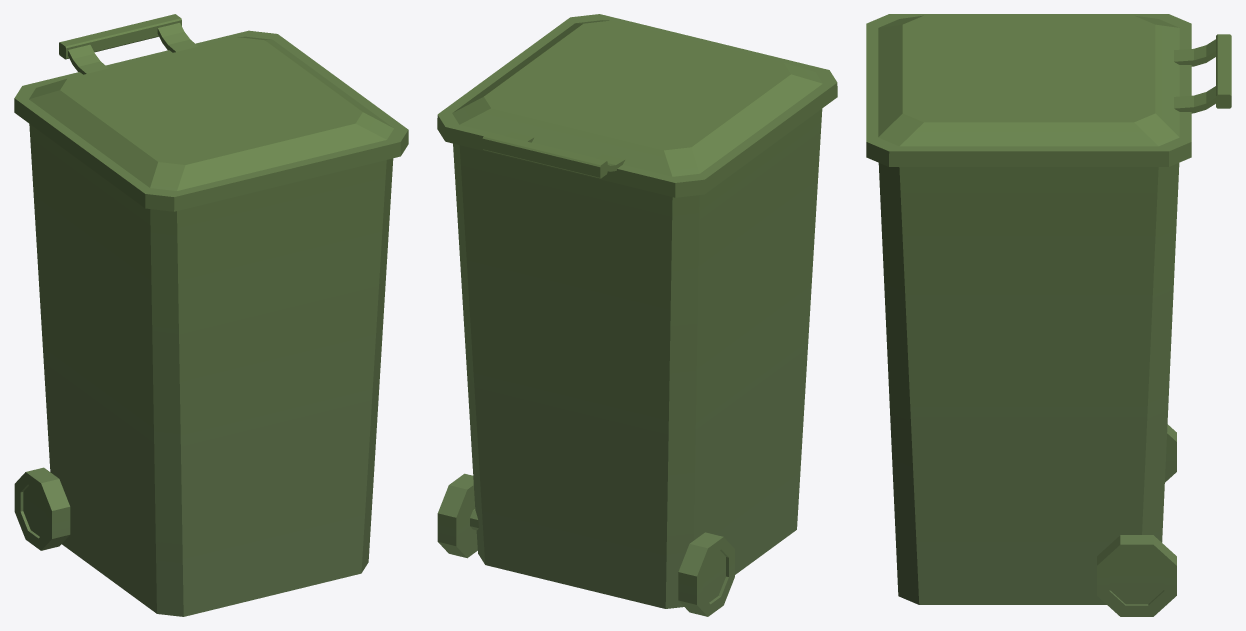
File: Trash_06.fbx
3 views of the same model, side by side, from view 1: azimuth 30°, elevation 25°; view 2: azimuth 150°, elevation 25°; view 3: azimuth 270°, elevation 25° (orthographic). The views are drawn at different scales.
Parts seen in each view (by area): view 1: Trash_06; view 2: Trash_06; view 3: Trash_06.
Part boxes in pixels (left/top/right/bottom): Trash_06: left=14, top=14, right=408, bottom=616; Trash_06: left=437, top=14, right=837, bottom=616; Trash_06: left=866, top=14, right=1231, bottom=616.
Size of the model in its own units: 0.7173 by 1.18 by 0.8053.
